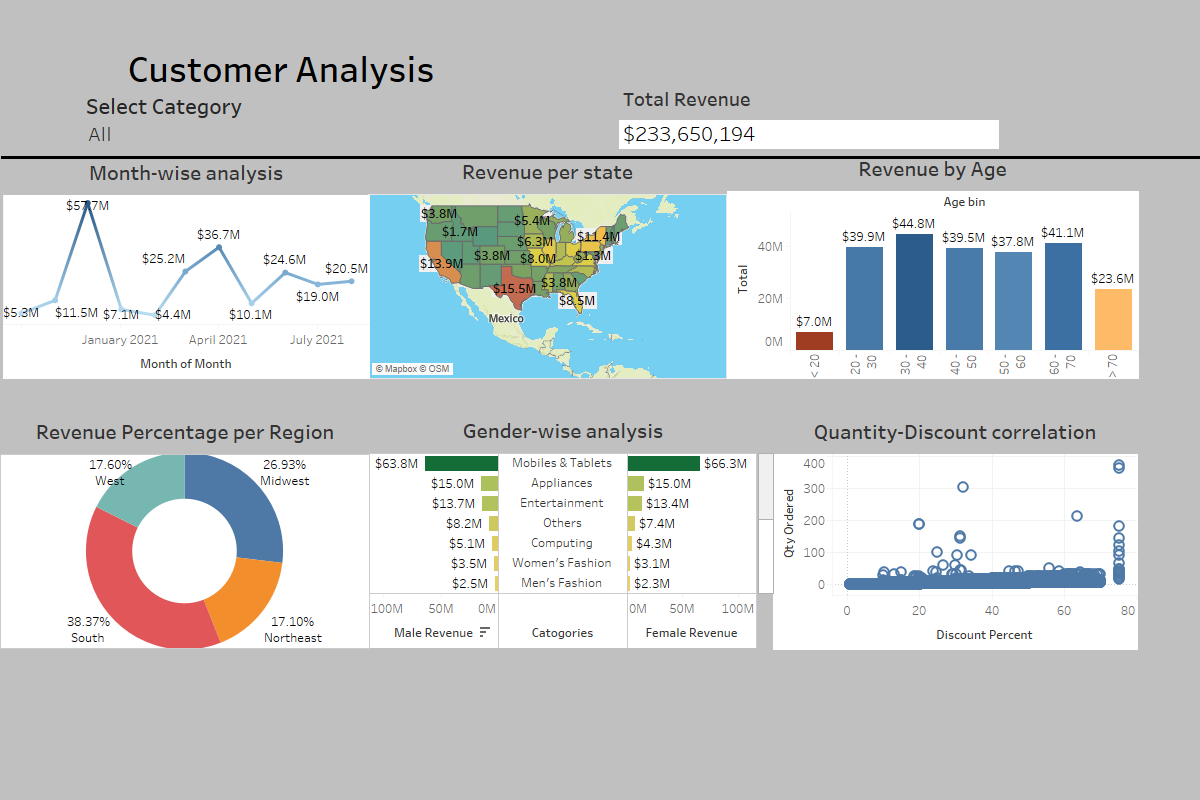

The page's visual inventory and layout, read from the dashboard file:
{"tool":"tableau","page":{"name":"Dashboard 1","canvas":[1200,800],"ordinal":0},"visuals":[{"type":"worksheet","title":"Total Revenue","mark":"Automatic","box":[733,73,379,75]},{"type":"text","box":[0,79,426,52]},{"type":"filter","title":"Gender-wise analysis","param":"[federated.1u93n1x06jdb0n12q80sa0sknwr5].[none:category:nk]","box":[355,79,310,62]},{"type":"blank","box":[1,145,1200,3]},{"type":"worksheet","title":"Revenue by Age","mark":"Automatic","rows":["total"],"cols":["Age (bin)"],"box":[727,148,411,231]},{"type":"worksheet","title":"Revenue per state","mark":"Automatic","box":[368,151,359,228]},{"type":"worksheet","title":"Month-wise analysis","mark":"Automatic","rows":["total"],"cols":["month"],"box":[3,152,366,227]},{"type":"worksheet","title":"Gender-wise analysis","mark":"Automatic","rows":["category"],"cols":["Calculation_535646921738031106","Calculation_535646921734791168","Calculation_535646921737654273"],"box":[369,410,406,239]},{"type":"worksheet","title":"Revenue Percentage per Region","mark":"Pie","rows":["Calculation_535646921734791168","Calculation_535646921734791168"],"box":[0,411,370,238]},{"type":"worksheet","title":"Quantity-Discount correlation","mark":"Automatic","rows":["qty_ordered"],"cols":["Discount_Percent"],"box":[773,411,364,239]}]}

Visuals, with their boxes in screenshot pixels (x1, y1, x2, y2), scaled from the page's 1200x800 canvas onto the 1200x800 screenshot:
"Total Revenue" worksheet: (733, 73, 1112, 148)
text: (0, 79, 426, 131)
"Gender-wise analysis" filter: (355, 79, 665, 141)
blank: (1, 145, 1199, 148)
"Revenue by Age" worksheet: (727, 148, 1138, 379)
"Revenue per state" worksheet: (368, 151, 727, 379)
"Month-wise analysis" worksheet: (3, 152, 369, 379)
"Gender-wise analysis" worksheet: (369, 410, 775, 649)
"Revenue Percentage per Region" worksheet (Pie marks): (0, 411, 370, 649)
"Quantity-Discount correlation" worksheet: (773, 411, 1137, 650)
